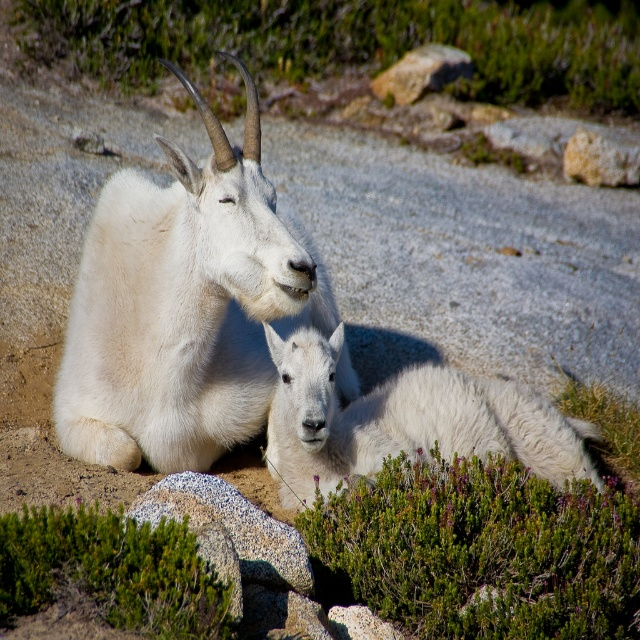Goat: (48, 64, 342, 468)
